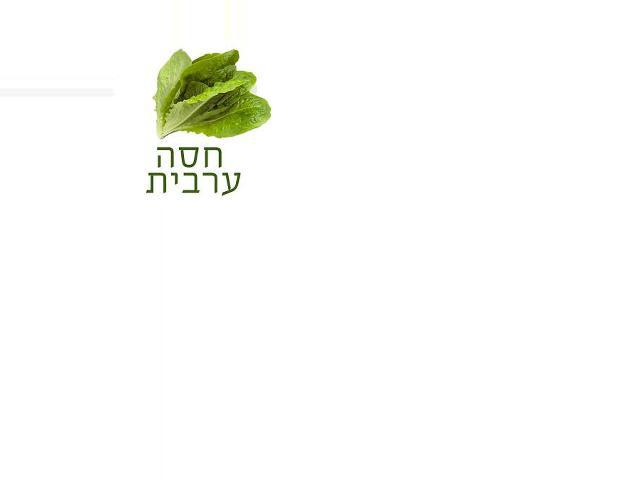lettuce: (112, 50, 271, 171)
